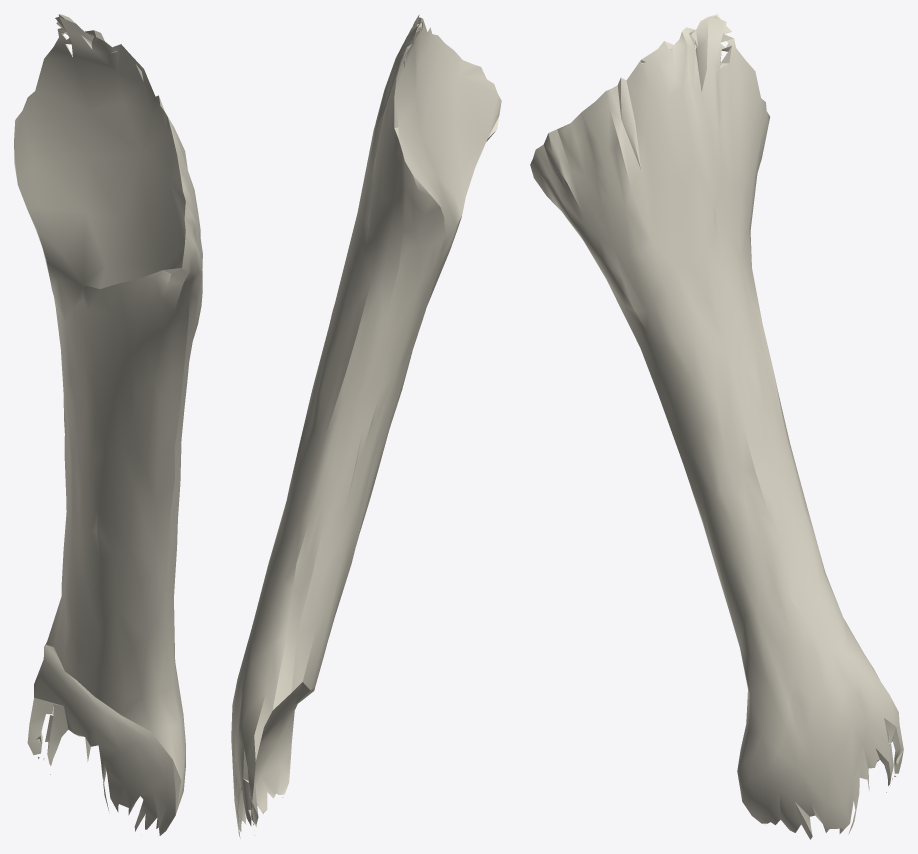
Rendered from fma44610_mm1394.glb.
3 views of the same model, side by side, from view 1: azimuth 30°, elevation 25°; view 2: azimuth 150°, elevation 25°; view 3: azimuth 270°, elevation 25° (orthographic). The views are drawn at different scales.
Parts seen in each view (by area): view 1: FMA44610_MM1394; view 2: FMA44610_MM1394; view 3: FMA44610_MM1394.
Boxes of the visible parts, bbox=[...] form: FMA44610_MM1394: bbox=[14, 14, 202, 836]; FMA44610_MM1394: bbox=[231, 14, 501, 837]; FMA44610_MM1394: bbox=[530, 14, 903, 839].
Bounding box in the file's own units: 0.0136 × 0.0629 × 0.0277.
